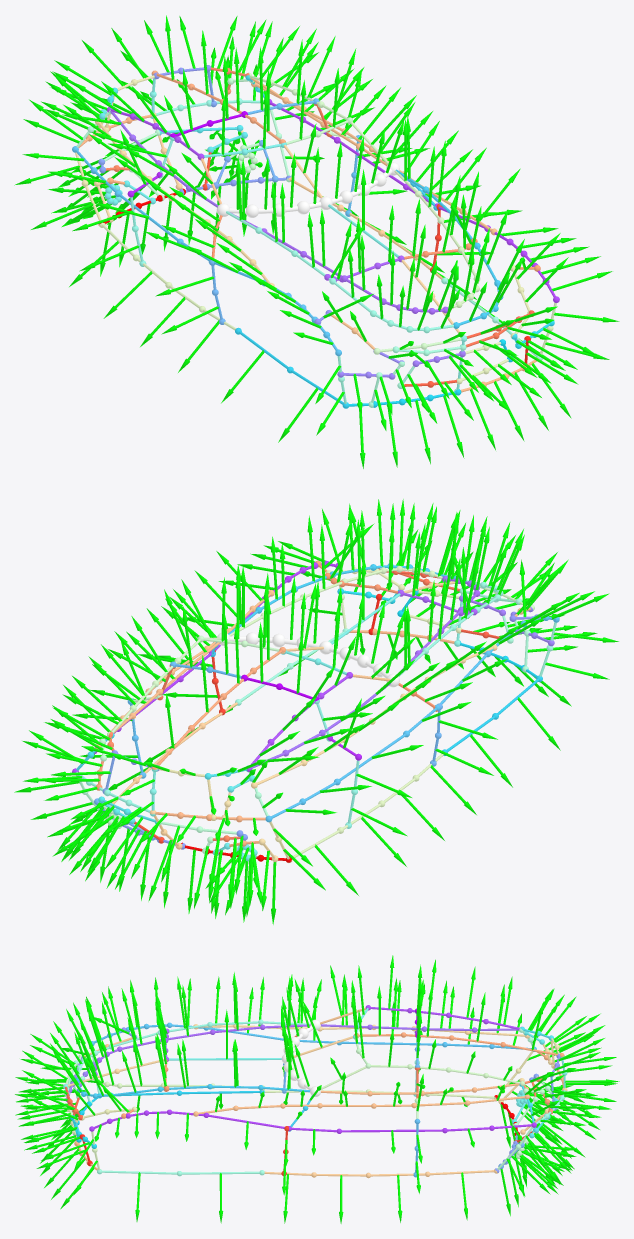
File: ils_car1.gltf
3 renders of one model, top to bottom at view 1: azimuth 30°, elevation 25°; view 2: azimuth 150°, elevation 25°; view 3: azimuth 270°, elevation 25°, orthographic. The views are drawn at different scales.
Bounding box in the file's own units: 0.5774 × 0.3956 × 1.1.
